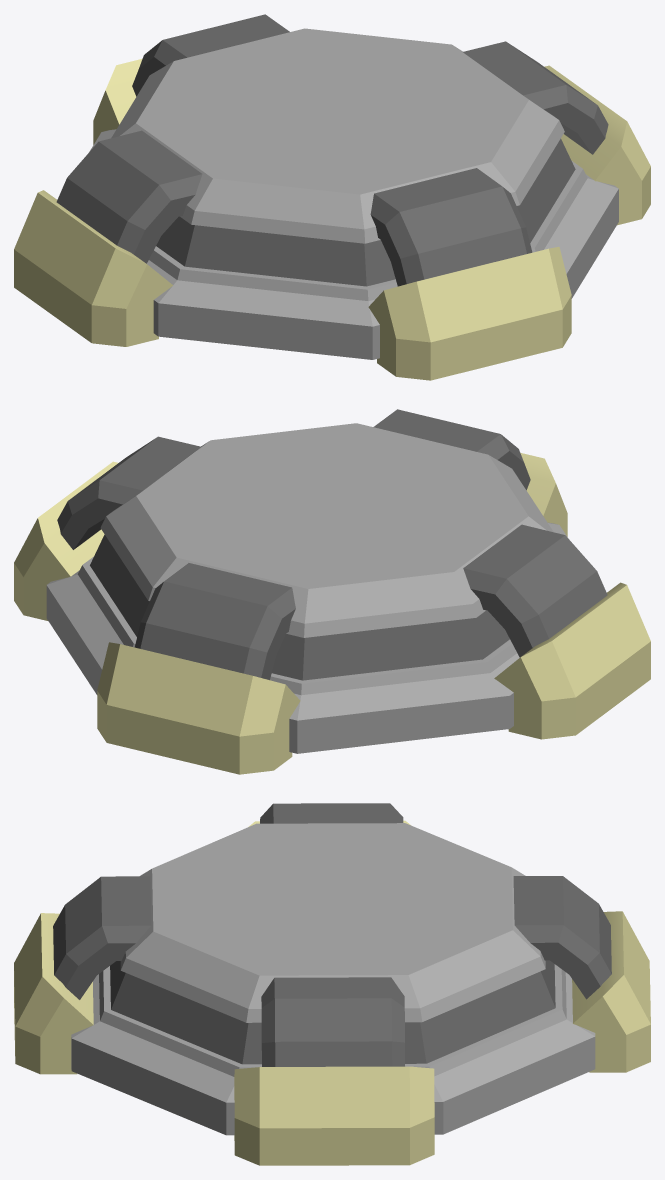
File: Shotgun_Pevnej_zaklad.fbx
3 views of the same model, one above another, from view 1: azimuth 30°, elevation 25°; view 2: azimuth 150°, elevation 25°; view 3: azimuth 270°, elevation 25° (orthographic). The views are drawn at different scales.
Parts seen in each view (by area): view 1: pCylinder462, pCube95, pCube90, pCube91, pCube97, pCube93, pCube92, pCube103, pCube94; view 2: pCylinder462, pCube94, pCube90, pCube103, pCube97, pCube93, pCube92, pCube91, pCube95; view 3: pCylinder462, pCube92, pCube93, pCube95, pCube91, pCube103, pCube94, pCube97.
Part boxes in pixels (x1,y1,x2,y2): pCylinder462: [89, 28, 618, 359]; pCube95: [368, 247, 571, 380]; pCube90: [14, 190, 172, 346]; pCube91: [370, 168, 532, 286]; pCube97: [56, 130, 202, 263]; pCube93: [463, 41, 608, 154]; pCube92: [544, 65, 650, 225]; pCube103: [132, 14, 289, 96]; pCube94: [93, 58, 142, 144]; pCylinder462: [46, 423, 567, 753]; pCube94: [97, 642, 300, 774]; pCube90: [494, 582, 650, 739]; pCube103: [134, 563, 295, 680]; pCube97: [463, 524, 607, 657]; pCube93: [57, 436, 201, 549]; pCube92: [14, 461, 118, 620]; pCube91: [373, 409, 530, 490]; pCube95: [520, 453, 567, 536]; pCylinder462: [71, 823, 595, 1135]; pCube92: [234, 1066, 434, 1165]; pCube93: [261, 977, 404, 1066]; pCube95: [14, 913, 93, 1074]; pCube91: [53, 876, 151, 999]; pCube103: [513, 876, 611, 999]; pCube94: [572, 911, 650, 1072]; pCube97: [260, 803, 403, 823].
Bounding box in the file's own units: 58.3 × 13.31 × 58.3.
